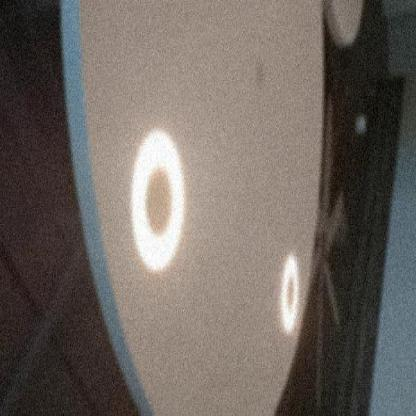light_on: (120, 105, 191, 300), (272, 240, 306, 346)
